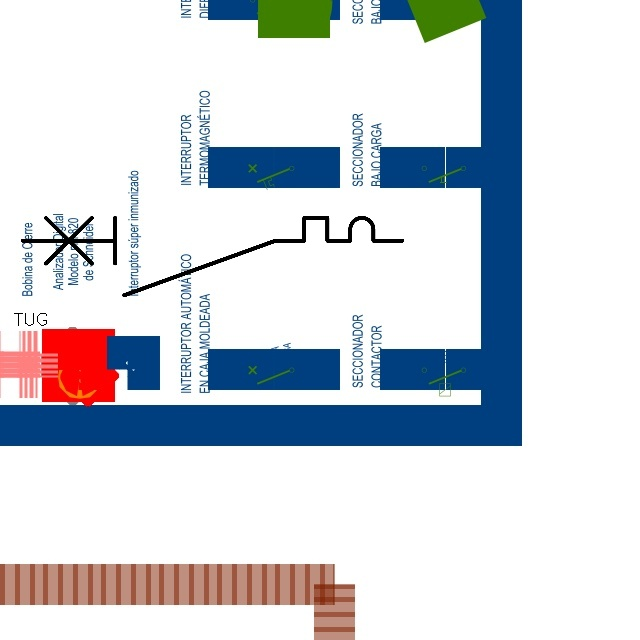interruptor_termomagnetico: (13, 208, 412, 305)
